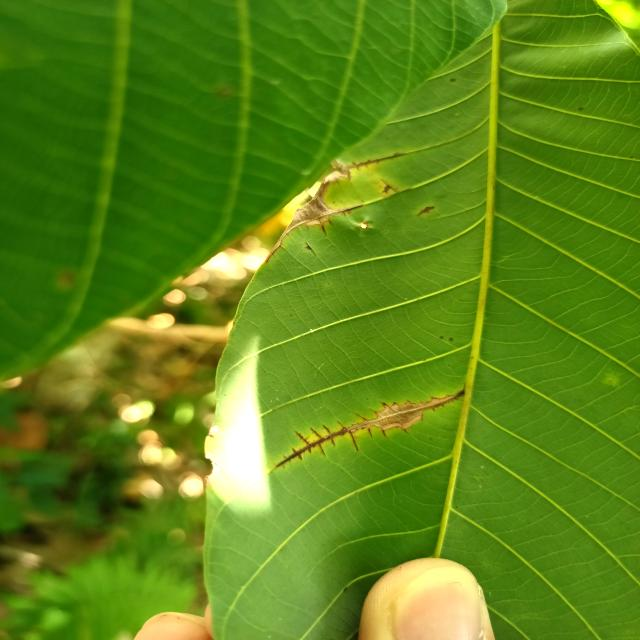Corynespora: (274, 383, 468, 467)
